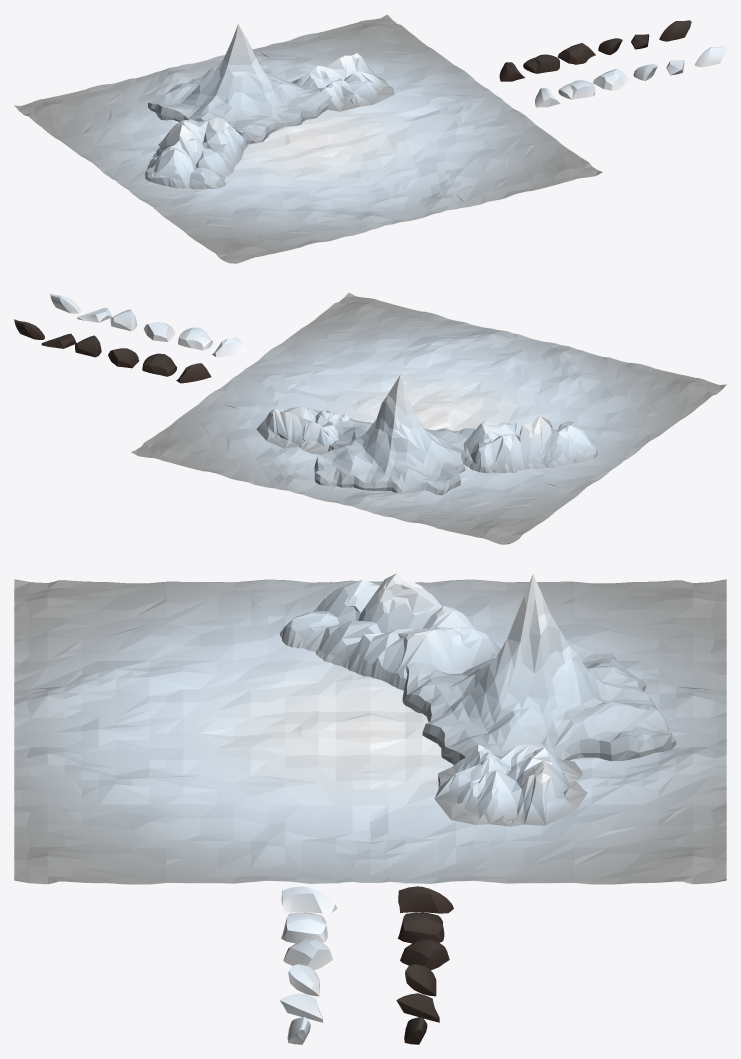
Rendered from Mountain.fbx.
3 renders of one model, top to bottom at view 1: azimuth 30°, elevation 25°; view 2: azimuth 150°, elevation 25°; view 3: azimuth 270°, elevation 25°, orthographic. The views are drawn at different scales.
Parts seen in each view (by area): view 1: Mountain_Water, Mountain_001, Mountain_003, Mountain_002, Mountain_Stone_White_002, Mountain_Stone_Dark_002, Mountain_Stone_White_003, Mountain_Stone_Dark_003, Mountain_Stone_Dark_006, Mountain_Stone_White_006; view 2: Mountain_Water, Mountain_001, Mountain_003, Mountain_002, Mountain_Stone_White_002, Mountain_Stone_Dark_002, Mountain_Stone_White_003, Mountain_Stone_Dark_003, Mountain_Stone_Dark_001, Mountain_Stone_White_001, Mountain_Stone_White_004, Mountain_Stone_Dark_004; view 3: Mountain_Water, Mountain_001, Mountain_003, Mountain_002, Mountain_Stone_Dark_001, Mountain_Stone_White_001, Mountain_Stone_Dark_002, Mountain_Stone_White_002, Mountain_Stone_Dark_003, Mountain_Stone_White_003, Mountain_Stone_White_005, Mountain_Stone_Dark_005 (+2 smaller).
Part boxes in pixels (x1=…): Mountain_Water: x1=14, y1=14, x2=602, y2=263; Mountain_001: x1=148, y1=24, x2=331, y2=144; Mountain_003: x1=144, y1=117, x2=247, y2=189; Mountain_002: x1=291, y1=53, x2=394, y2=111; Mountain_Stone_White_002: x1=558, y1=80, x2=595, y2=99; Mountain_Stone_Dark_002: x1=523, y1=54, x2=559, y2=73; Mountain_Stone_White_003: x1=593, y1=68, x2=631, y2=90; Mountain_Stone_Dark_003: x1=558, y1=43, x2=595, y2=64; Mountain_Stone_Dark_006: x1=659, y1=20, x2=691, y2=41; Mountain_Stone_White_006: x1=694, y1=46, x2=726, y2=67; Mountain_Water: x1=131, y1=292, x2=726, y2=544; Mountain_001: x1=314, y1=375, x2=474, y2=495; Mountain_003: x1=463, y1=416, x2=597, y2=473; Mountain_002: x1=256, y1=406, x2=349, y2=454; Mountain_Stone_White_002: x1=178, y1=327, x2=212, y2=350; Mountain_Stone_Dark_002: x1=142, y1=353, x2=176, y2=376; Mountain_Stone_White_003: x1=144, y1=322, x2=174, y2=341; Mountain_Stone_Dark_003: x1=108, y1=348, x2=139, y2=368; Mountain_Stone_Dark_001: x1=176, y1=363, x2=211, y2=383; Mountain_Stone_White_001: x1=212, y1=337, x2=246, y2=357; Mountain_Stone_White_004: x1=110, y1=309, x2=137, y2=330; Mountain_Stone_Dark_004: x1=75, y1=335, x2=101, y2=357; Mountain_Water: x1=14, y1=579, x2=726, y2=884; Mountain_001: x1=402, y1=574, x2=676, y2=764; Mountain_003: x1=279, y1=573, x2=500, y2=690; Mountain_002: x1=434, y1=744, x2=587, y2=826; Mountain_Stone_Dark_001: x1=398, y1=886, x2=453, y2=913; Mountain_Stone_White_001: x1=281, y1=886, x2=337, y2=913; Mountain_Stone_Dark_002: x1=398, y1=912, x2=444, y2=943; Mountain_Stone_White_002: x1=281, y1=912, x2=327, y2=943; Mountain_Stone_Dark_003: x1=400, y1=939, x2=449, y2=970; Mountain_Stone_White_003: x1=283, y1=939, x2=332, y2=970; Mountain_Stone_White_005: x1=280, y1=993, x2=323, y2=1022; Mountain_Stone_Dark_005: x1=396, y1=993, x2=439, y2=1022.
Bounding box in the file's own units: 10913 × 1824 × 6991.
